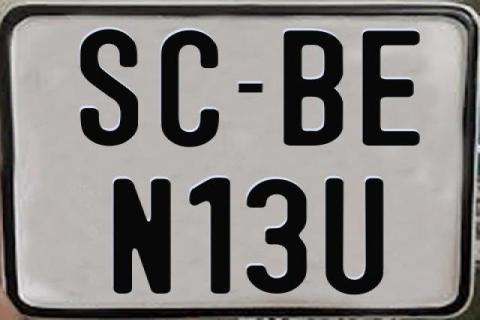0: (245, 179, 307, 299), (188, 177, 230, 296)
B: (284, 31, 346, 150)
C: (160, 30, 220, 150)
E: (360, 28, 418, 144)
N: (112, 178, 176, 298)
S: (80, 28, 139, 150)
U: (322, 177, 384, 295)
